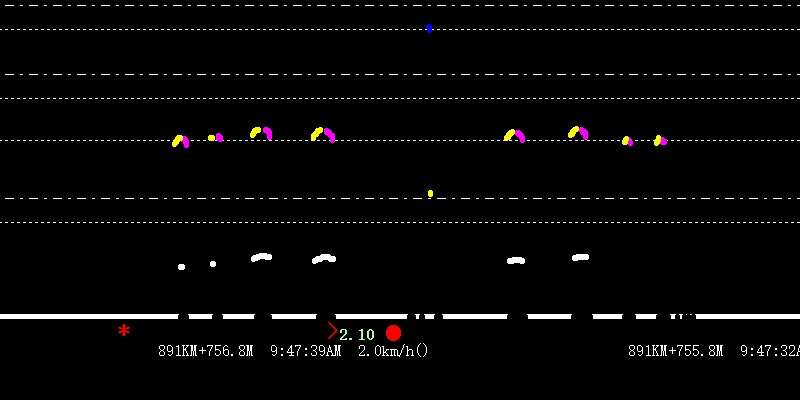L: (243, 118, 604, 271)
circle: (385, 321, 402, 342)
face_1: (425, 21, 433, 35)
star: (116, 321, 131, 338)
